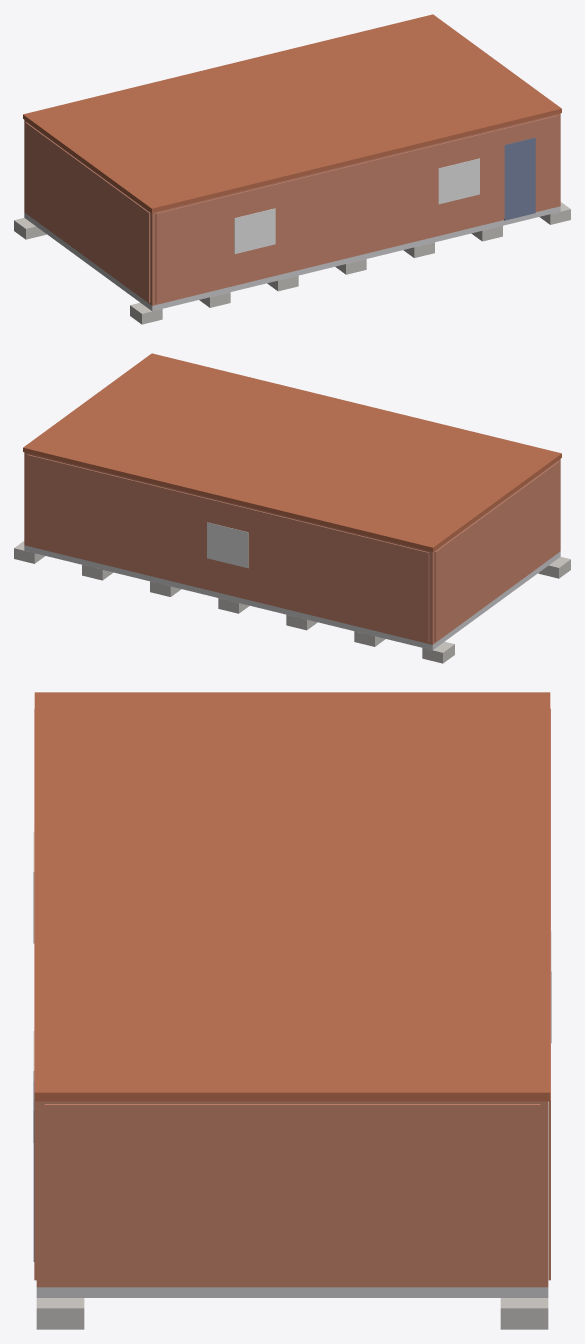
Rendered from Studio-40-Base-BrickRed-LOD1.glb.
3 renders of one model, top to bottom at view 1: azimuth 30°, elevation 25°; view 2: azimuth 150°, elevation 25°; view 3: azimuth 270°, elevation 25°, orthographic. The views are drawn at different scales.
Parts seen in each view (by area): view 1: RoofMain, ExteriorPanelsStandard, BaseFrame, WindowsStandard, ExteriorShell, FoundationBlocks, EntryDoor; view 2: RoofMain, ExteriorPanelsStandard, BaseFrame, ExteriorShell, FoundationBlocks, WindowsStandard; view 3: RoofMain, ExteriorPanelsStandard, ExteriorShell, BaseFrame, FoundationBlocks.
Part boxes in pixels (x1=…): RoofMain: x1=23, y1=14, x2=561, y2=212; ExteriorPanelsStandard: x1=25, y1=115, x2=557, y2=303; BaseFrame: x1=24, y1=206, x2=560, y2=311; WindowsStandard: x1=234, y1=158, x2=479, y2=254; ExteriorShell: x1=24, y1=113, x2=560, y2=305; FoundationBlocks: x1=14, y1=202, x2=570, y2=324; EntryDoor: x1=504, y1=137, x2=535, y2=220; RoofMain: x1=23, y1=353, x2=561, y2=551; ExteriorPanelsStandard: x1=27, y1=454, x2=559, y2=642; BaseFrame: x1=24, y1=545, x2=560, y2=650; ExteriorShell: x1=24, y1=452, x2=560, y2=644; FoundationBlocks: x1=14, y1=541, x2=570, y2=663; WindowsStandard: x1=207, y1=522, x2=248, y2=568; RoofMain: x1=34, y1=692, x2=550, y2=1101; ExteriorPanelsStandard: x1=34, y1=708, x2=550, y2=1284; ExteriorShell: x1=36, y1=1101, x2=548, y2=1287; BaseFrame: x1=36, y1=1287, x2=548, y2=1297; FoundationBlocks: x1=36, y1=1298, x2=548, y2=1329.
Bounding box in the file's own units: 12.49 × 3.17 × 6.53.
